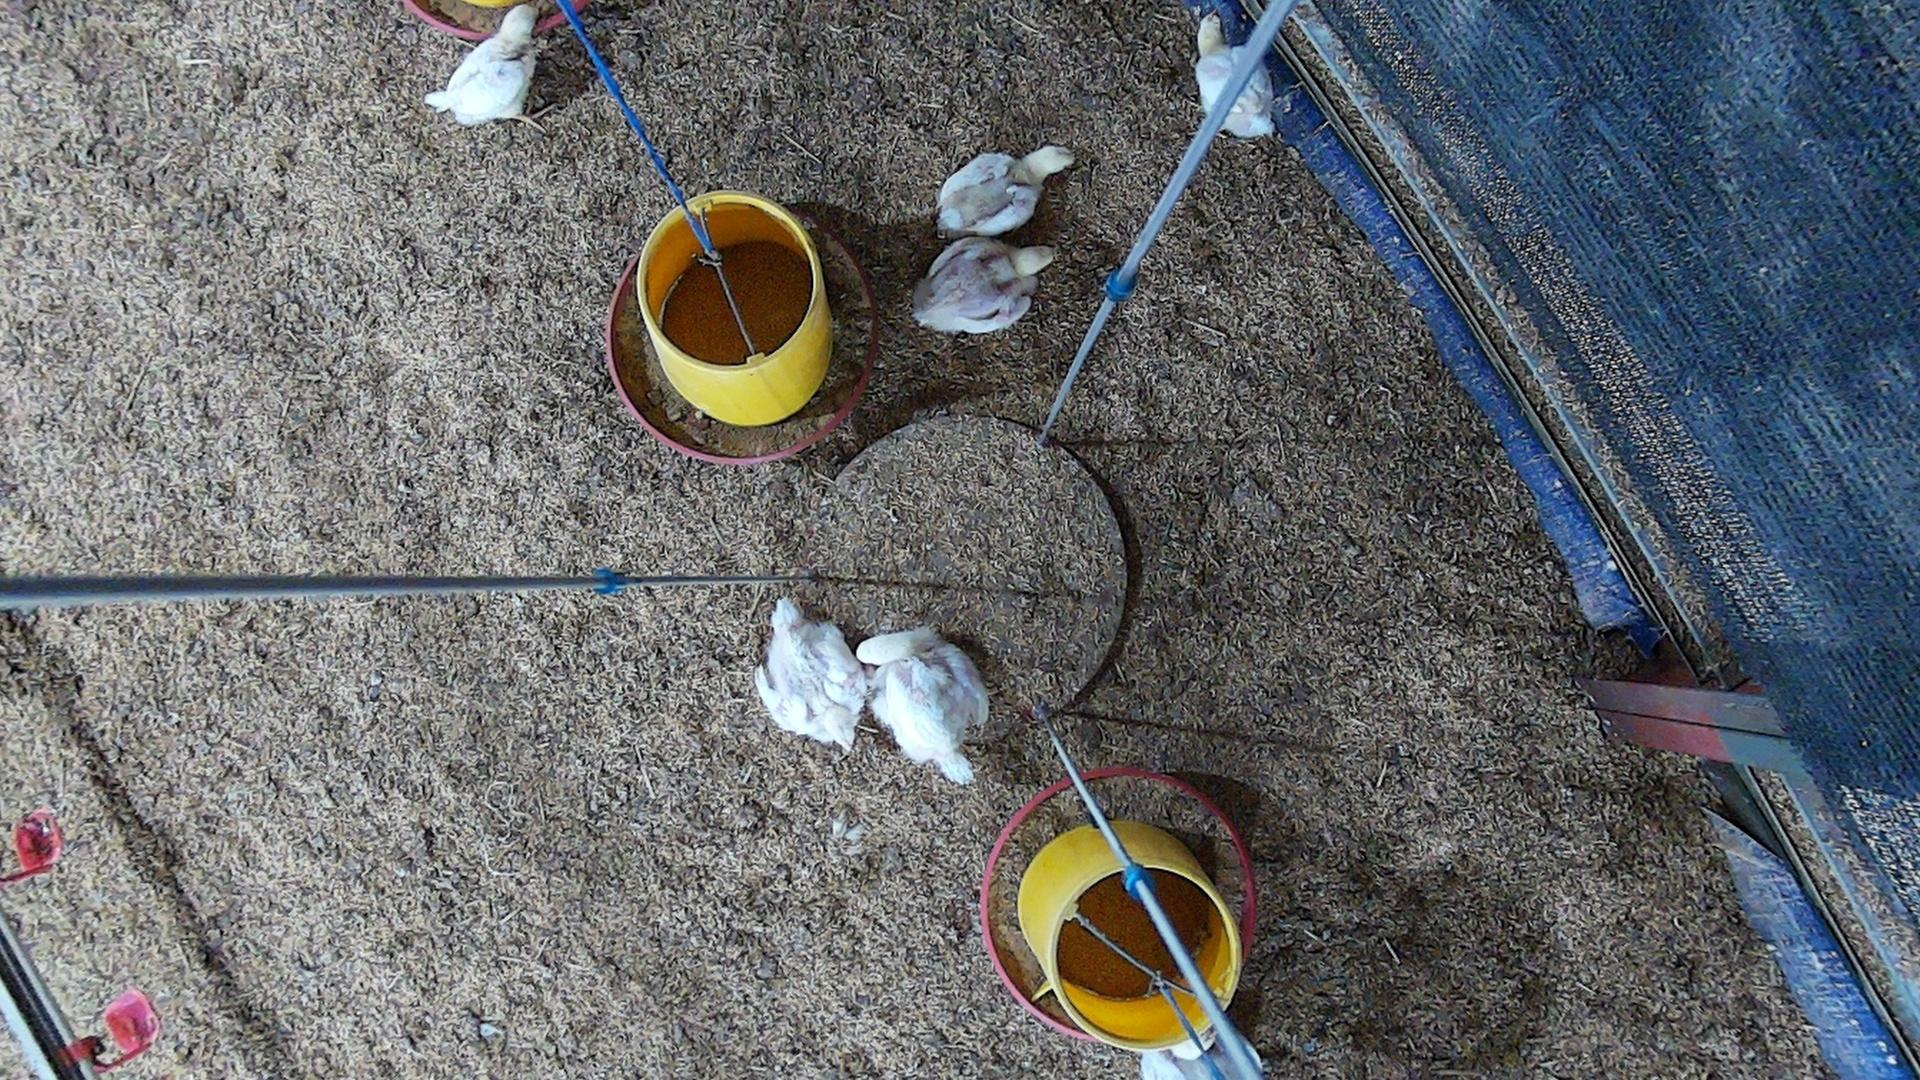ayam_broiler: (858, 628, 989, 785), (761, 597, 865, 749), (911, 235, 1056, 331), (423, 5, 539, 123), (939, 145, 1071, 235), (1195, 11, 1275, 137)
